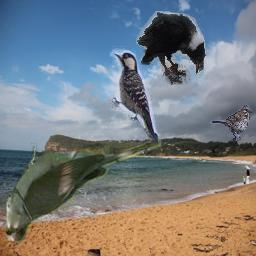Crow: (136, 11, 206, 85)
Cuckoo: (7, 138, 162, 245)
Sparrow: (210, 103, 253, 141)
Woodpecker: (110, 47, 163, 146)
